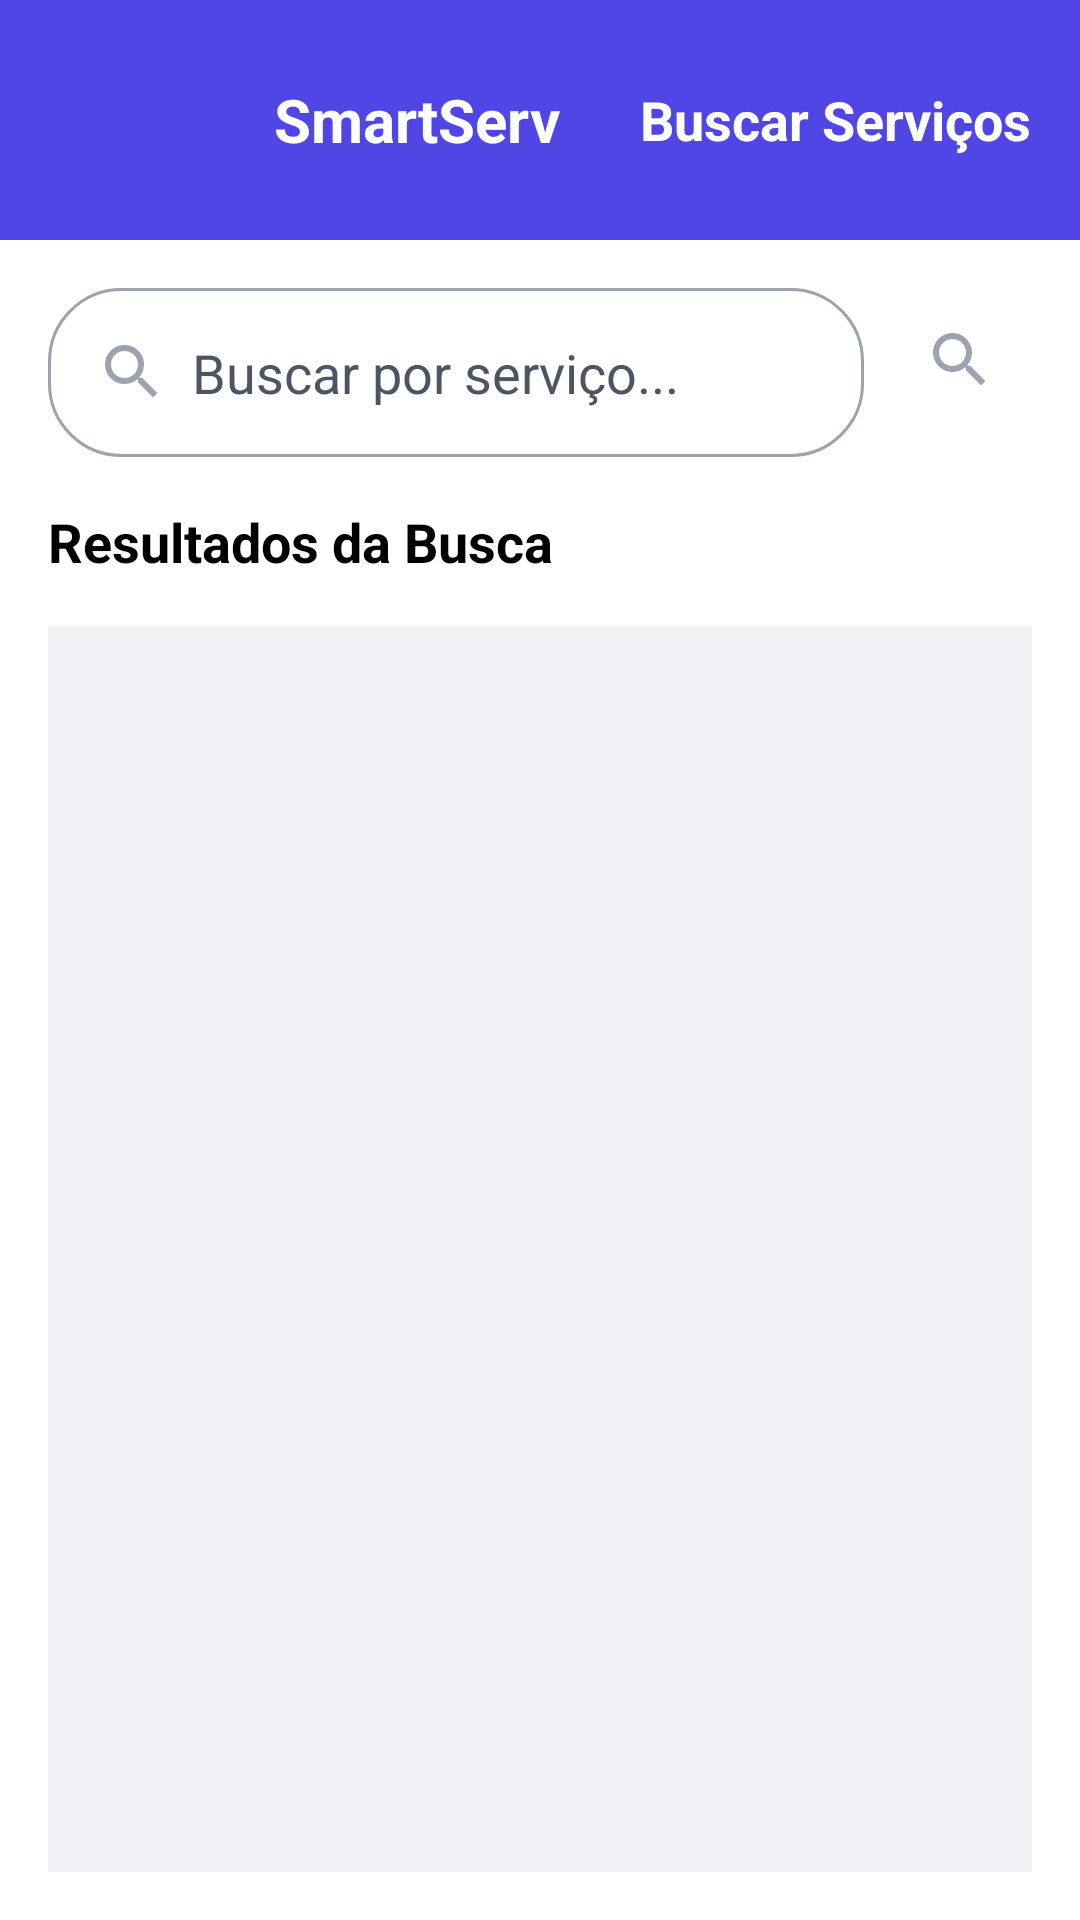

Locate icon controls on the screen. Image size 1080x1920, boxes as (x1, y1, x2, y2).
search: (933, 333, 985, 385)
